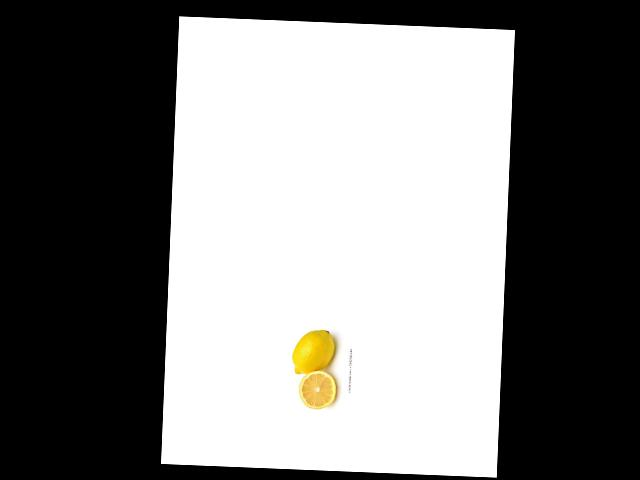lemon: (291, 324, 337, 376)
